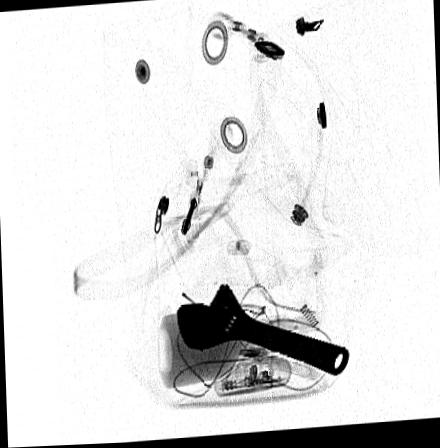Wrench: (174, 285, 347, 381)
